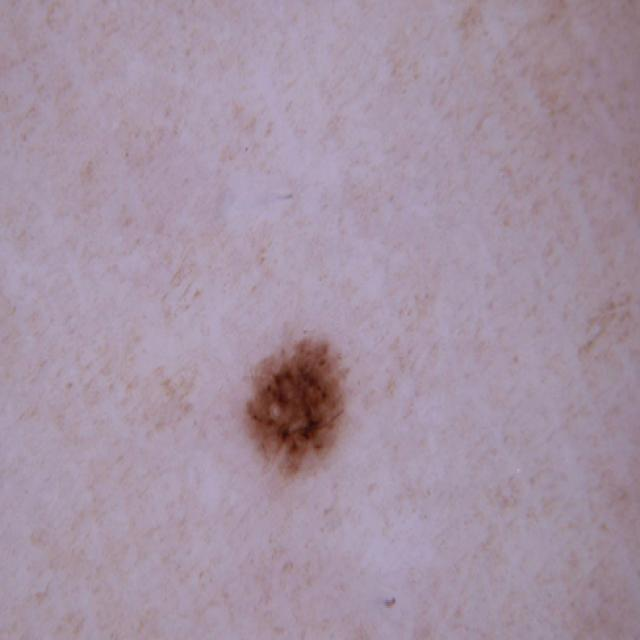Keratosis: (225, 321, 395, 544)
